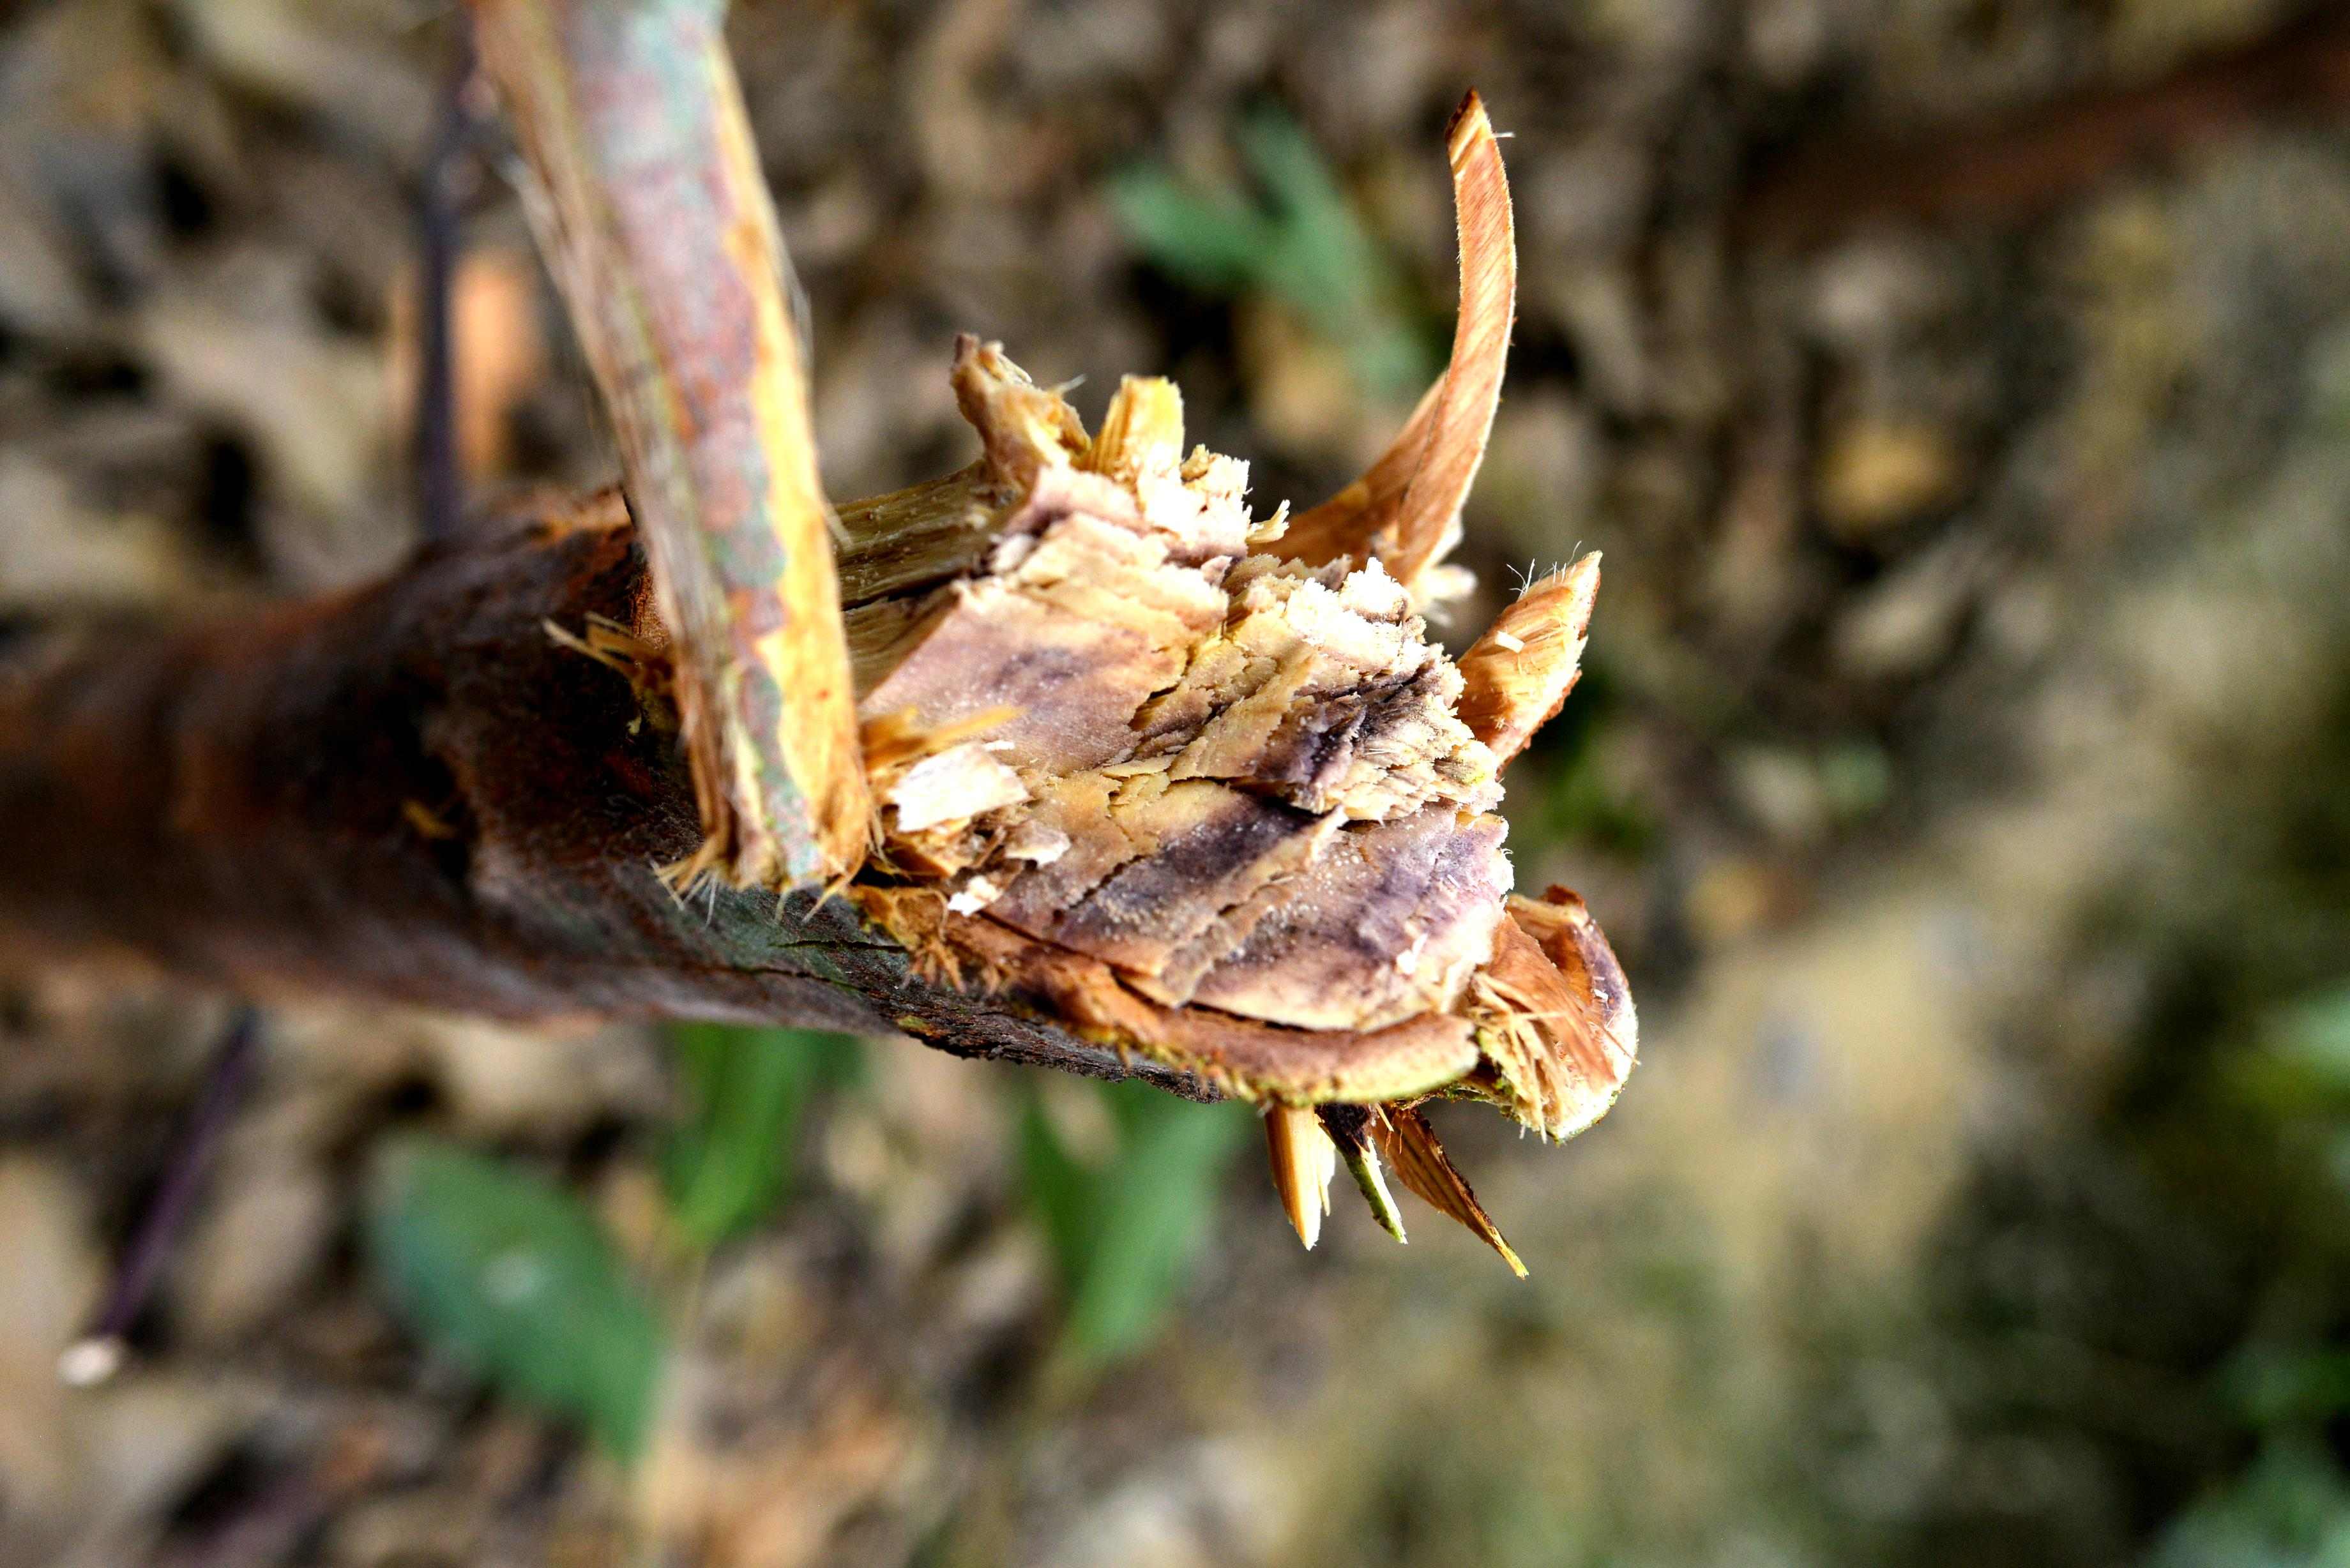Ralstonia: (1085, 845, 1358, 994), (905, 646, 1071, 749)
